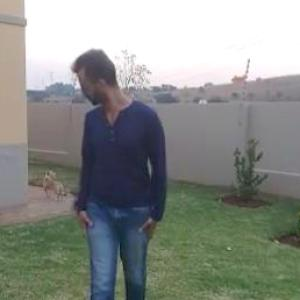follow: (70, 23, 165, 285)
